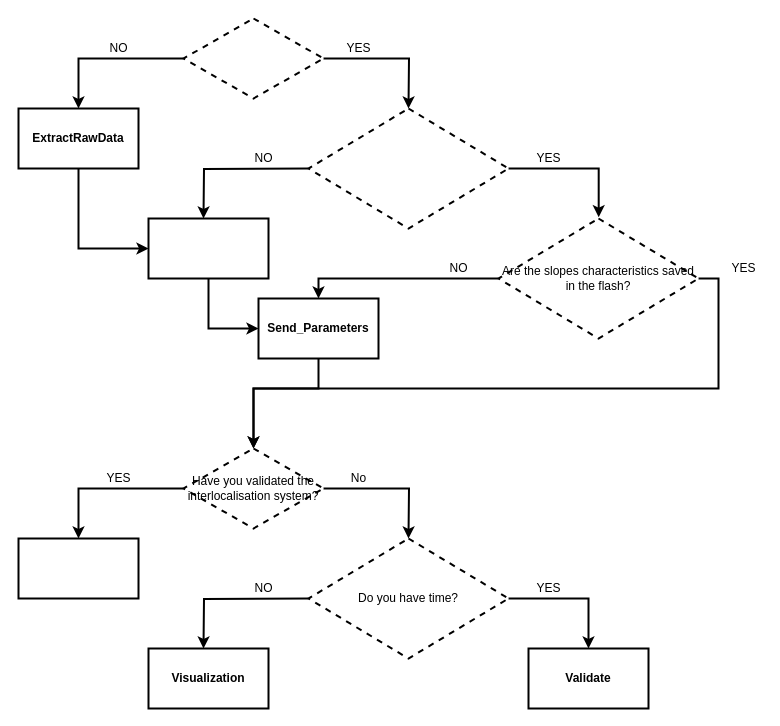
The diagram is 780 pixels wide and 726 high, and some of its shapes have lost their labels. The box of each missing label's shape, as (x1, y1, x2, y2) in pixels:
Do you have the slopes characteristics to represent the assembly's behavior?: (307, 107, 509, 229)
Has this assembly turn on the test bench?: (182, 17, 324, 99)
Parser: (147, 217, 269, 279)
You are done!: (17, 537, 139, 599)
